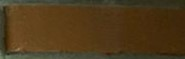redbrick: (1, 1, 185, 59)
